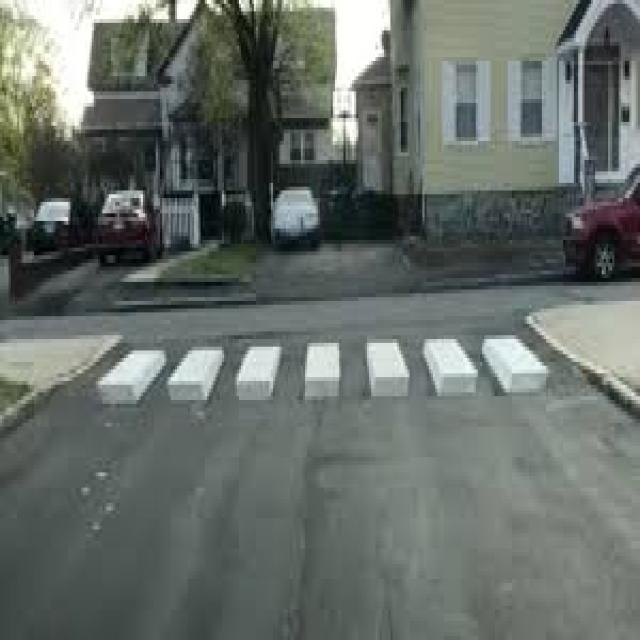Crosswalk: (77, 325, 573, 405)
